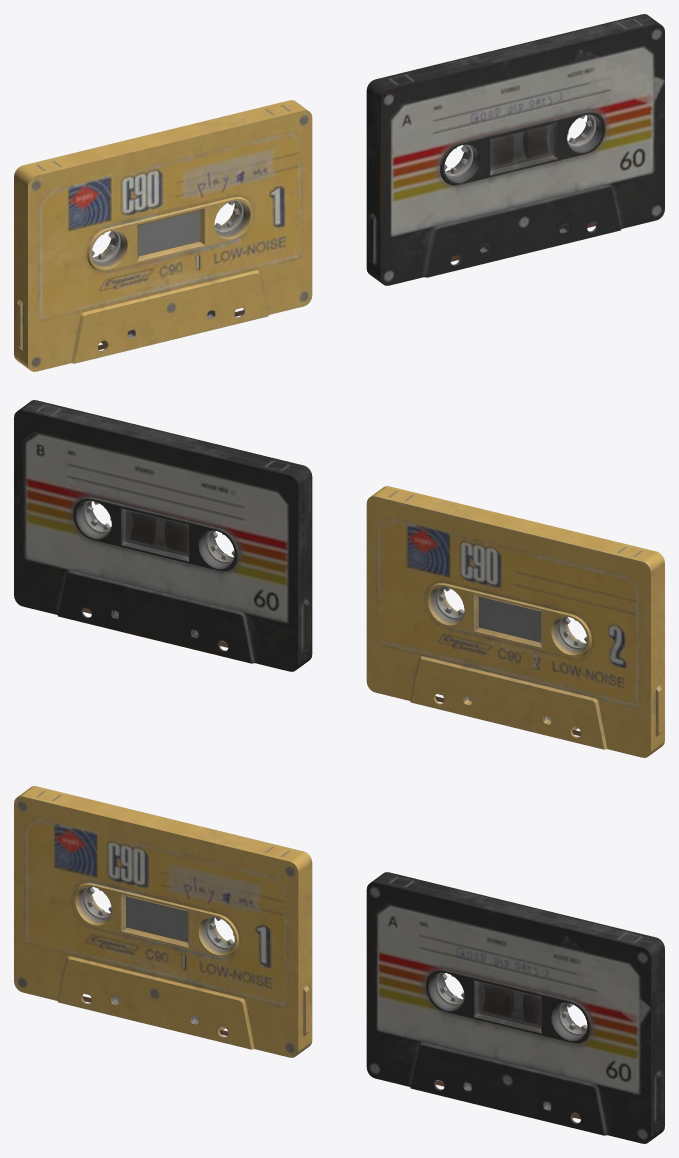
The model's file is cassette.glb.
3 renders of one model, top to bottom at view 1: azimuth 30°, elevation 25°; view 2: azimuth 150°, elevation 25°; view 3: azimuth 330°, elevation 25°, orthographic.
Parts seen in each view (by area): view 1: CassetteTape_Main_low_01_2, CassetteTape_Main_low_02_2; view 2: CassetteTape_Main_low_01_2, CassetteTape_Main_low_02_2; view 3: CassetteTape_Main_low_01_2, CassetteTape_Main_low_02_2.
Boxes of the visible parts, bbox=[...] form: CassetteTape_Main_low_01_2: bbox=[14, 100, 312, 371]; CassetteTape_Main_low_02_2: bbox=[366, 14, 664, 285]; CassetteTape_Main_low_01_2: bbox=[366, 486, 664, 757]; CassetteTape_Main_low_02_2: bbox=[14, 400, 312, 671]; CassetteTape_Main_low_01_2: bbox=[14, 786, 312, 1057]; CassetteTape_Main_low_02_2: bbox=[366, 872, 664, 1143].
Size of the model in its own units: 0.2257 by 0.0659 by 0.0102.
Materials: 2 (2 with a texture image).
